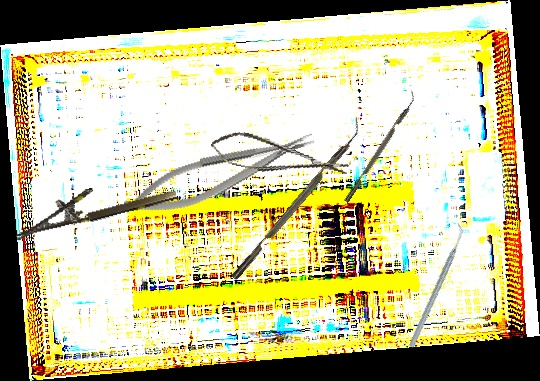Chopper: (223, 116, 370, 281), (370, 221, 502, 349), (338, 89, 421, 204)
Micro Scissor: (207, 125, 352, 191)
Needle Holder: (118, 123, 322, 226), (9, 168, 178, 241)
